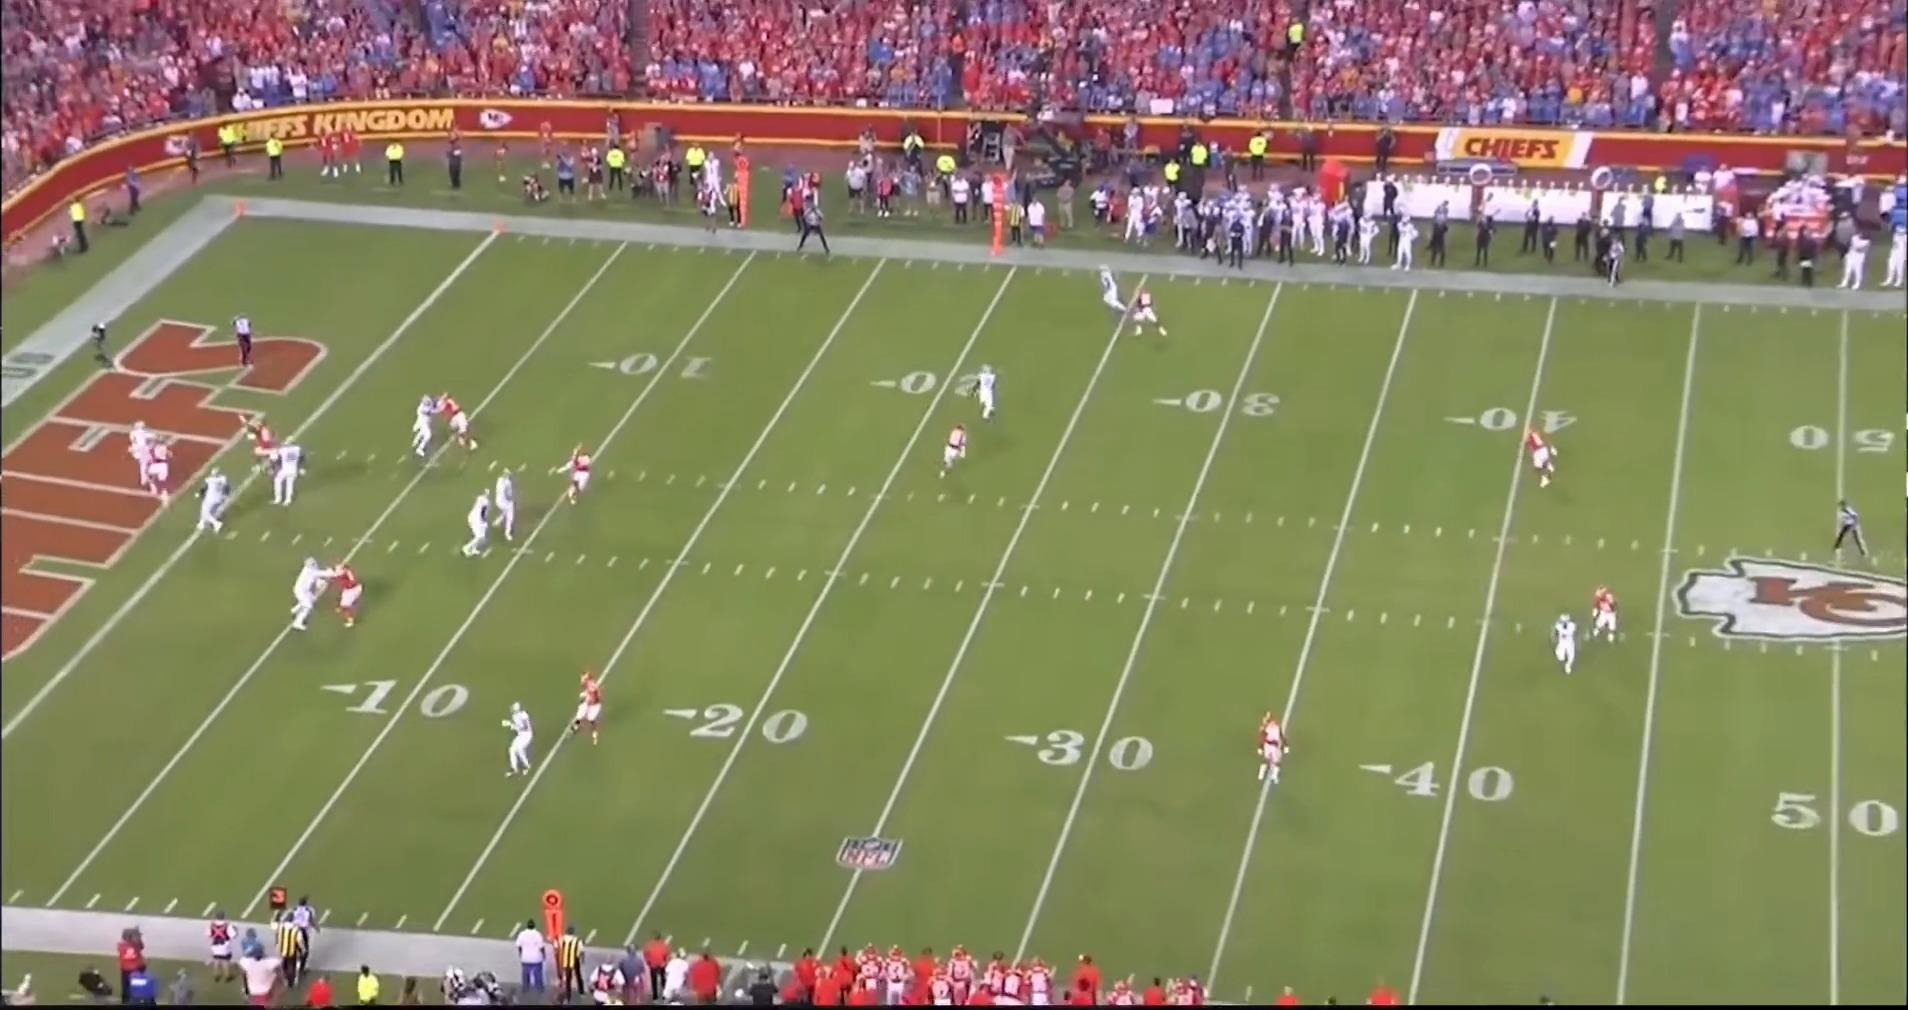defense: (559, 669, 599, 744), (1257, 713, 1295, 791), (438, 393, 483, 454), (324, 558, 363, 627), (559, 440, 599, 506), (1520, 427, 1559, 493), (138, 432, 172, 503), (1581, 584, 1620, 645), (1125, 287, 1169, 340), (249, 413, 281, 478), (940, 422, 974, 481)
oline: (284, 553, 329, 631), (187, 465, 228, 536), (266, 438, 305, 511), (462, 490, 501, 560), (489, 468, 520, 543)
qb: (128, 416, 161, 487)
ref: (1828, 499, 1871, 563), (797, 200, 836, 256), (231, 311, 258, 379), (1599, 237, 1629, 295)
skill: (504, 702, 540, 781), (1545, 610, 1578, 684), (410, 393, 444, 460), (1095, 264, 1132, 323), (973, 360, 1001, 422)
